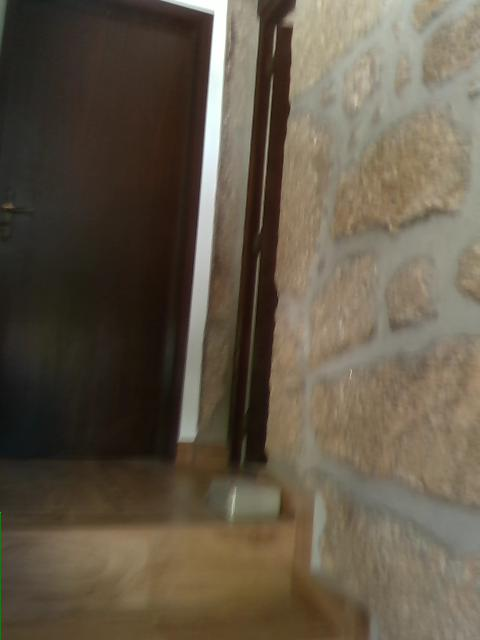door: (0, 0, 213, 467)
